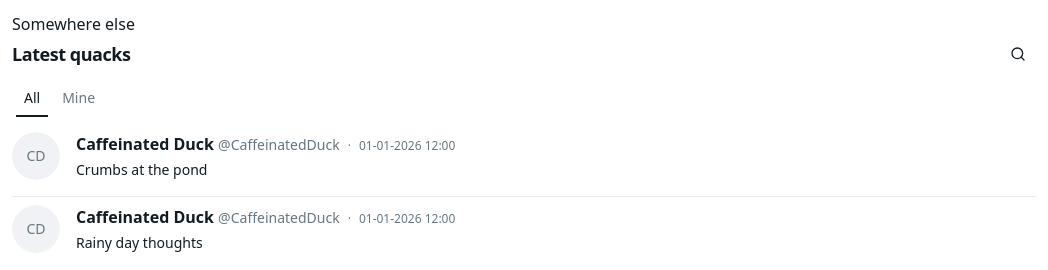
Test: QuackFeed search › closes on Escape and returns focus to the magnifier
Expected: the text "Crumbs at the pond" is shown, [76,160,208,179]
Click the button named "Toggle search" at (1018, 54), box [1000,36,1036,72]
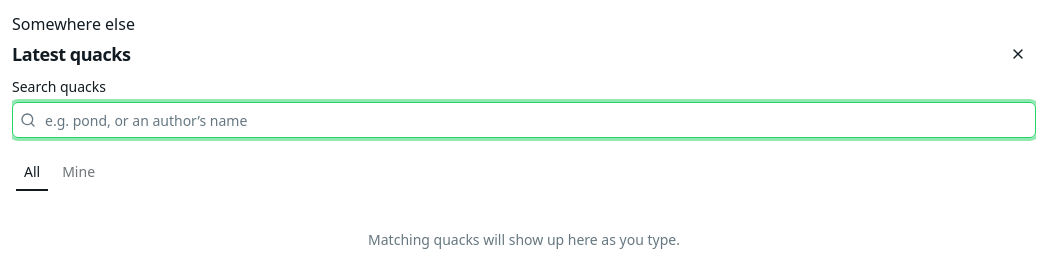
Press Escape
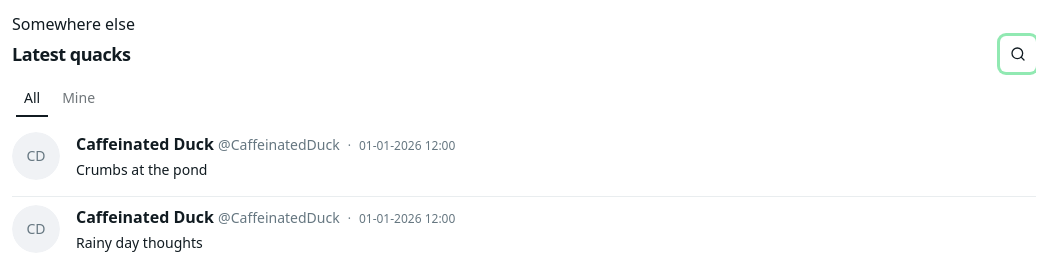
Result: the label "Search quacks" is gone
Result: the text "Rainy day thoughts" is shown at [76,233,203,252]
